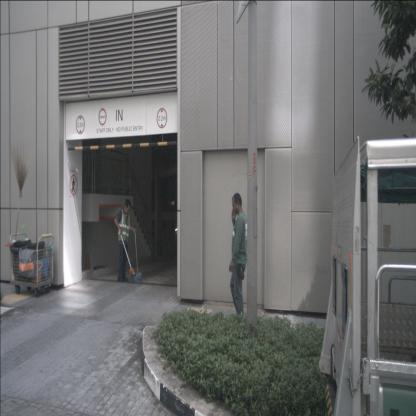cone: (84, 251, 92, 280)
